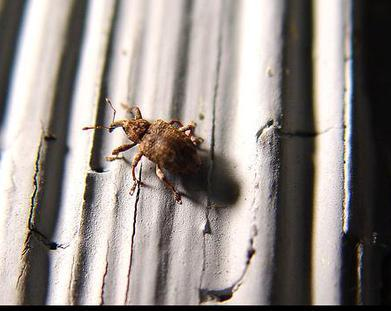weevils: (66, 71, 244, 220)
